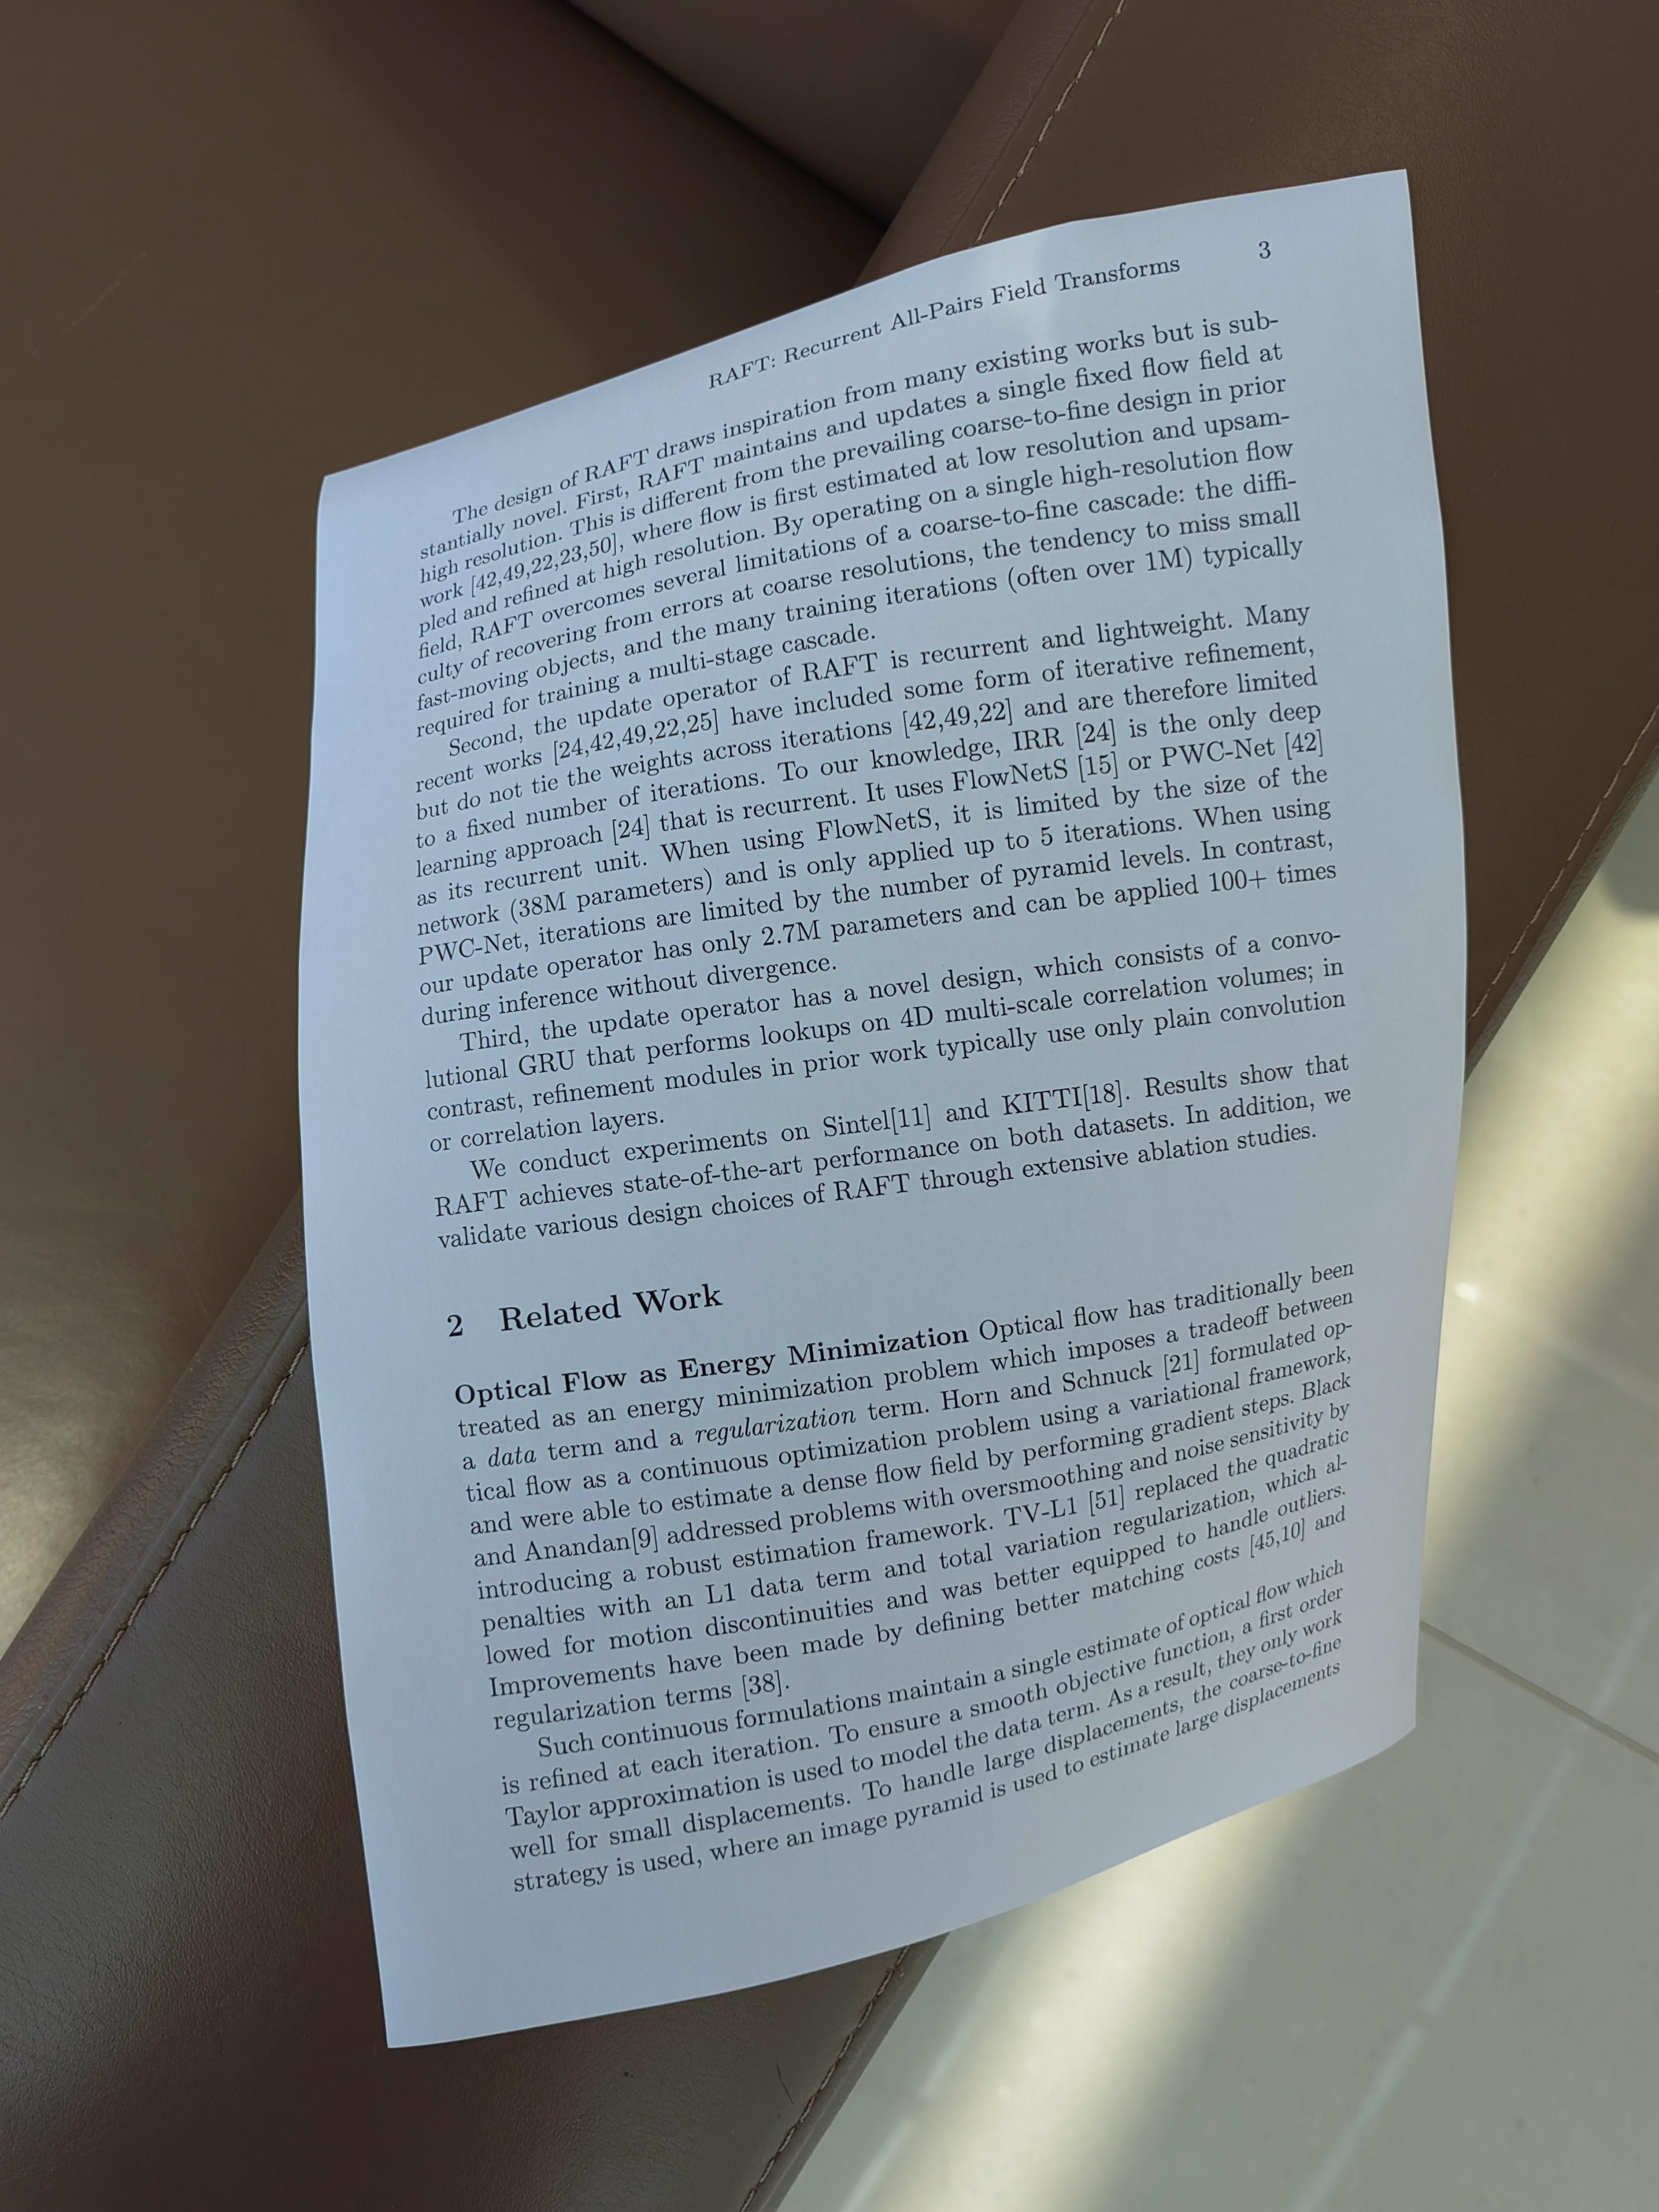paper: (98, 169, 1624, 2148)
